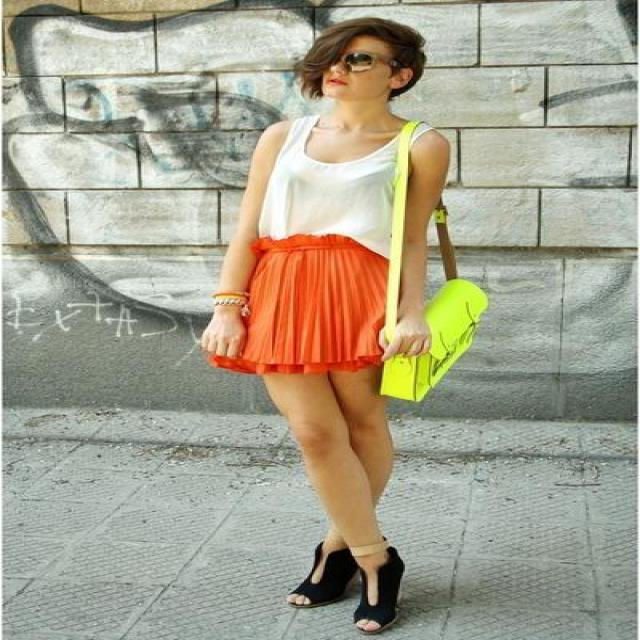bag: (381, 171, 485, 400)
shirt: (259, 115, 448, 268)
shoe: (289, 542, 402, 626)
skirt: (212, 234, 402, 392)
sunglass: (338, 44, 390, 74)
